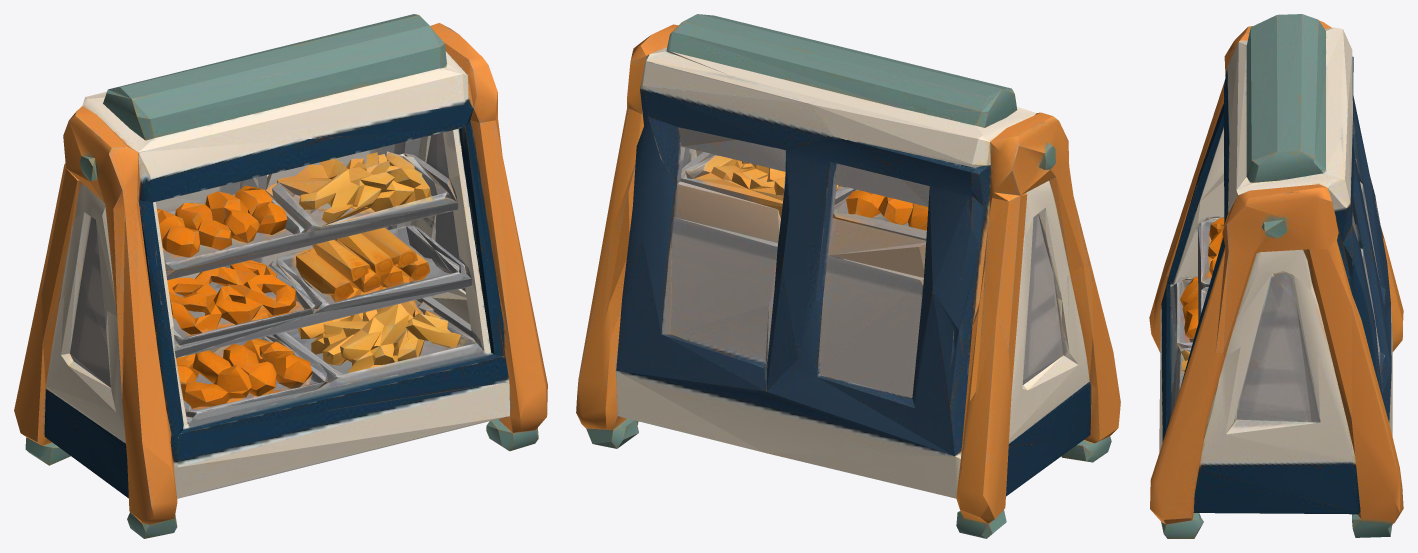
File: pastryCase.glb
3 views of the same model, side by side, from view 1: azimuth 30°, elevation 25°; view 2: azimuth 150°, elevation 25°; view 3: azimuth 270°, elevation 25° (orthographic). The views are drawn at different scales.
Parts seen in each view (by area): view 1: Mesh_0; view 2: Mesh_0; view 3: Mesh_0.
Part boxes in pixels (<box>): Mesh_0: <box>14,14,547,538</box>; Mesh_0: <box>576,14,1120,538</box>; Mesh_0: <box>1149,14,1403,538</box>.
Size of the model in its own units: 1.31 by 1.19 by 0.75.
1 material, 1 textured.
